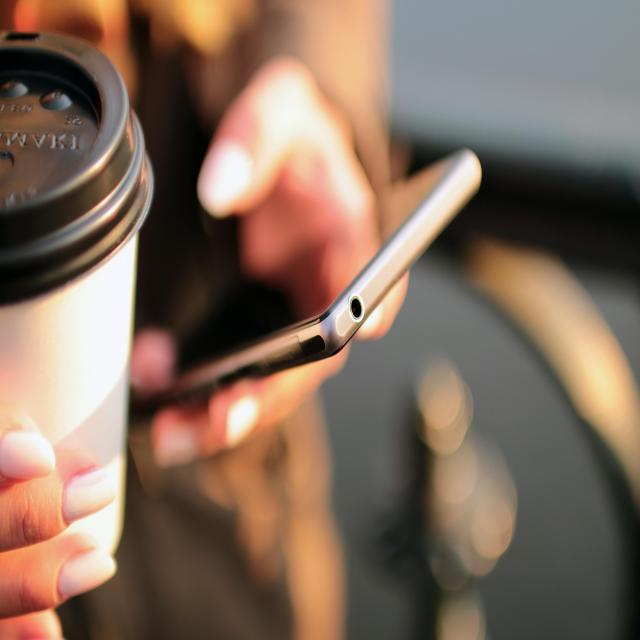Mobile: (134, 132, 488, 427)
